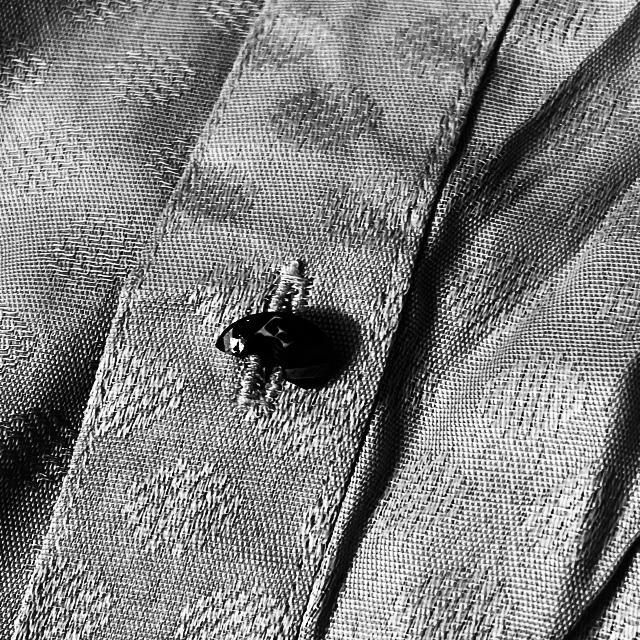Broken_button: (208, 303, 356, 410)
